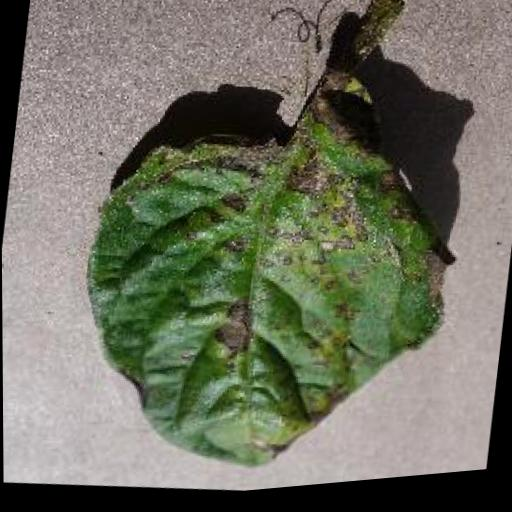Early Blight: (63, 100, 470, 508)
